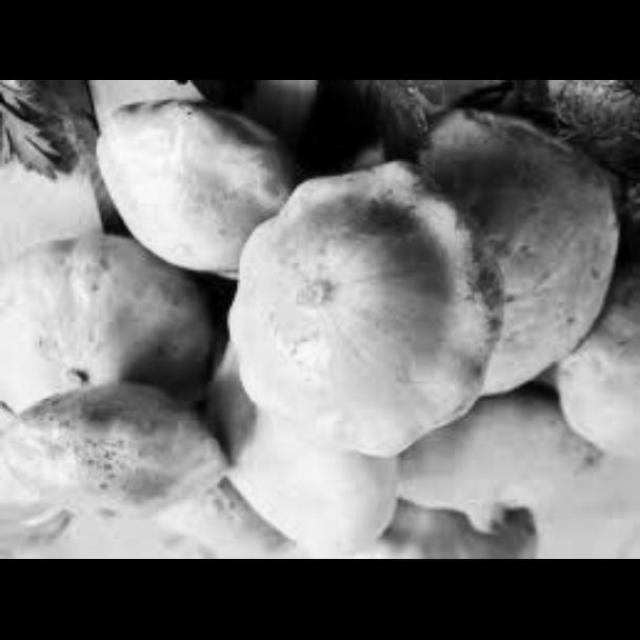bi dao: (221, 163, 512, 471), (417, 115, 625, 412), (90, 101, 299, 288), (390, 376, 634, 532), (202, 385, 420, 556), (0, 249, 225, 406), (6, 389, 234, 531), (550, 266, 639, 466)
